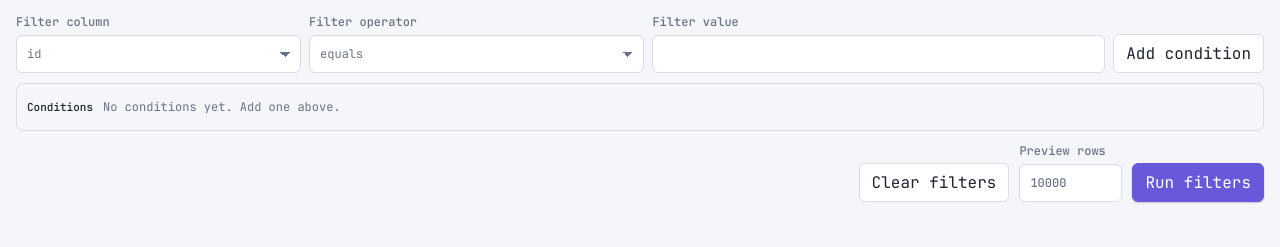
shows inline integer and decimal validation and changes operator options
Select "amount" in the dropdown labelled "Filter column". click: (159, 54)
box: top-left (16, 35), bottom-right (301, 73)
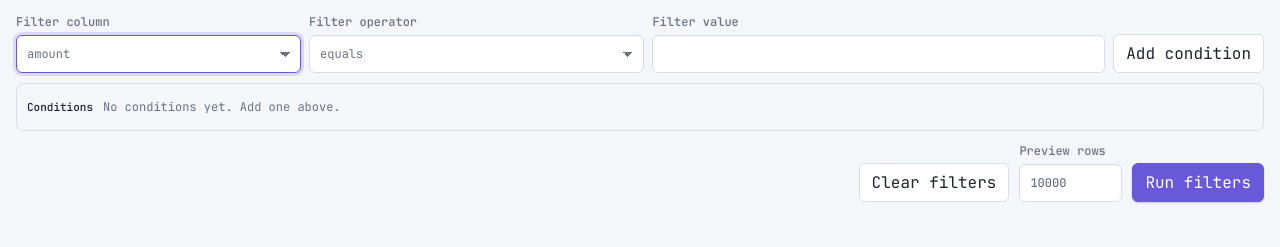
Type "1.234" into the field labelled "Filter value". click: (879, 54)
box: top-left (652, 35), bottom-right (1105, 73)
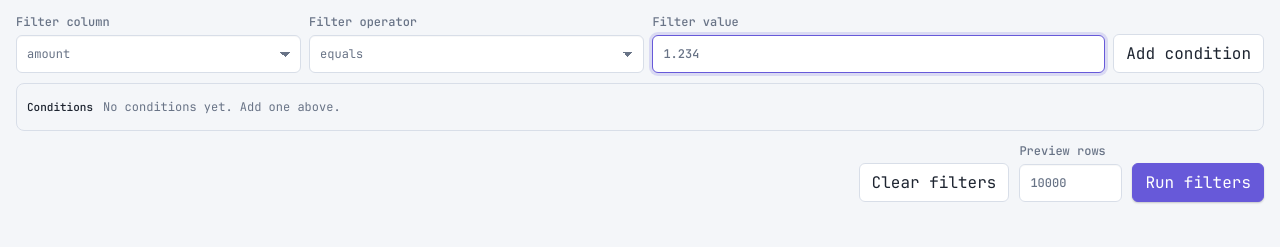
Click the button "Add condition". click: (1189, 54)
box: top-left (1113, 34), bottom-right (1264, 73)
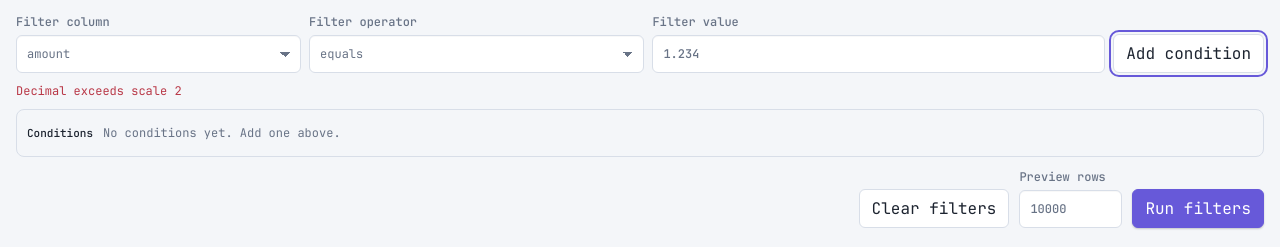
Check: the message shows "scale", box top-left (16, 83), bottom-right (182, 99)
Select "id" in the dropdown labelled "Filter column". click: (159, 54)
box: top-left (16, 35), bottom-right (301, 73)
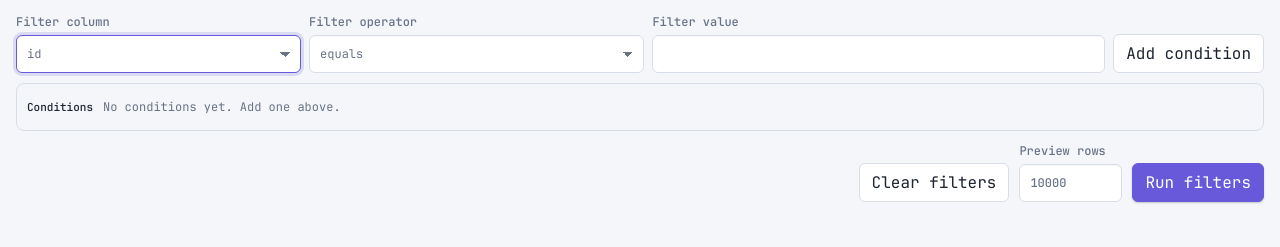
Type "9223372036854775808" into the field labelled "Filter value". click: (879, 54)
box: top-left (652, 35), bottom-right (1105, 73)
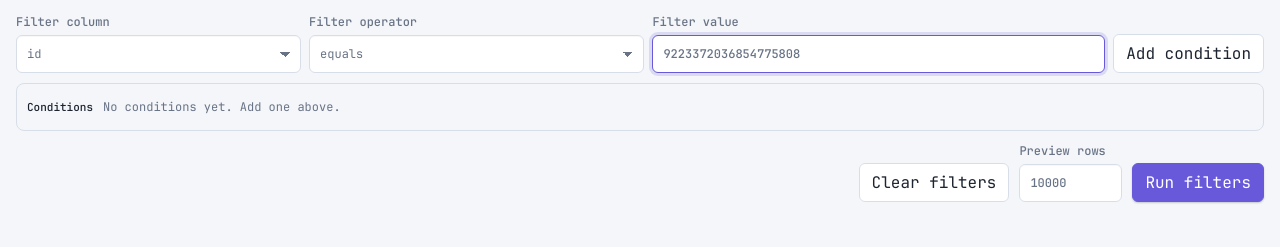
Click the button "Add condition". click: (1189, 54)
box: top-left (1113, 34), bottom-right (1264, 73)
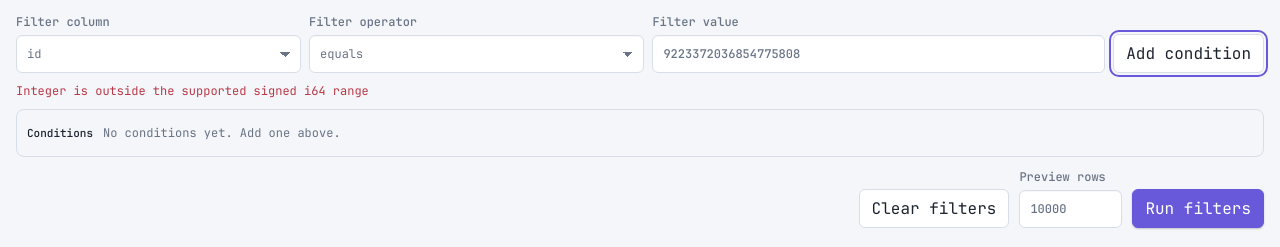
Check: the message shows "signed", box top-left (16, 83), bottom-right (369, 99)
